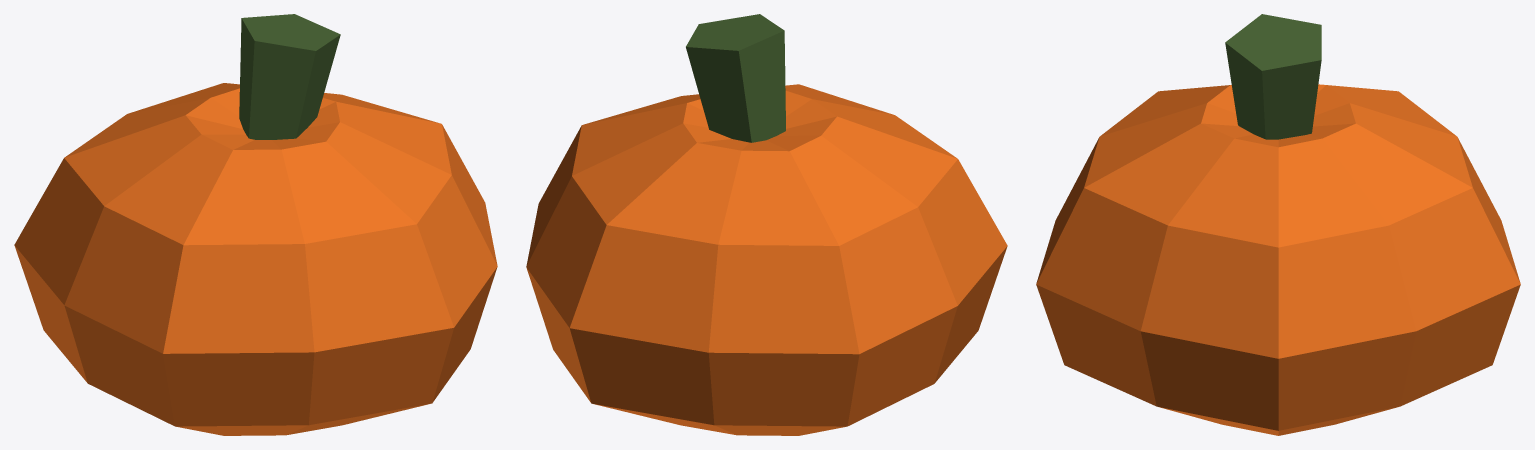
File: pumpkin.glb
3 views of the same model, side by side, from view 1: azimuth 30°, elevation 25°; view 2: azimuth 150°, elevation 25°; view 3: azimuth 270°, elevation 25° (orthographic).
Parts seen in each view (by area): view 1: Pumpkin; view 2: Pumpkin; view 3: Pumpkin.
Part boxes in pixels (x1,y1,x2,y2): Pumpkin: (14, 14, 497, 435); Pumpkin: (526, 14, 1007, 435); Pumpkin: (1036, 14, 1520, 435).
Bounding box in the file's own units: 0.3302 × 0.2745 × 0.3272.
